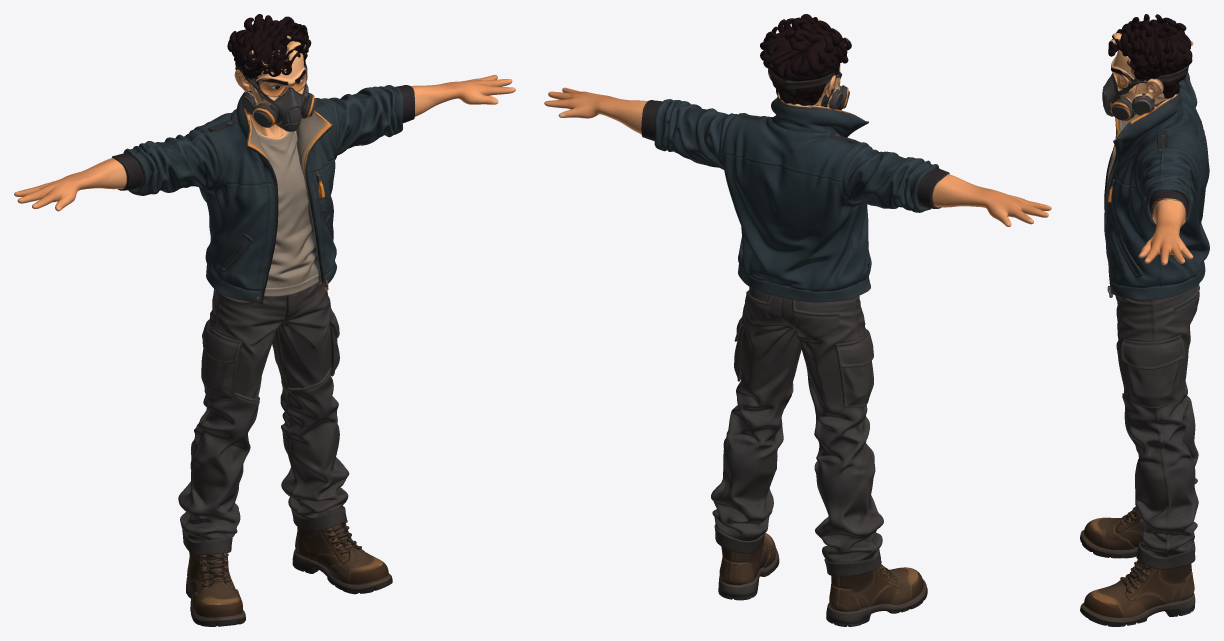
Rendered from meshy-body.glb.
The picture shows the model from 3 angles, left to right: view 1: azimuth 30°, elevation 25°; view 2: azimuth 150°, elevation 25°; view 3: azimuth 270°, elevation 25°; orthographic projection. The views are drawn at different scales.
Size of the model in its own units: 1.73 by 1.9 by 0.3982.
1 material, 1 textured.
